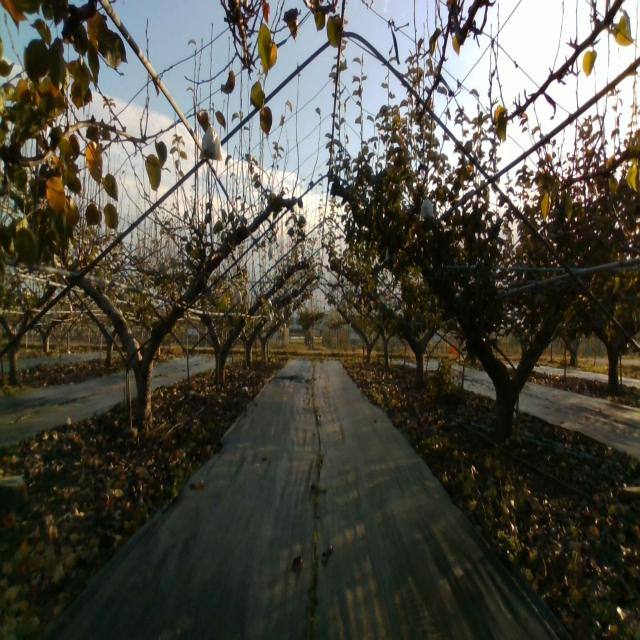pearbags: (200, 121, 223, 162), (420, 193, 435, 220)
